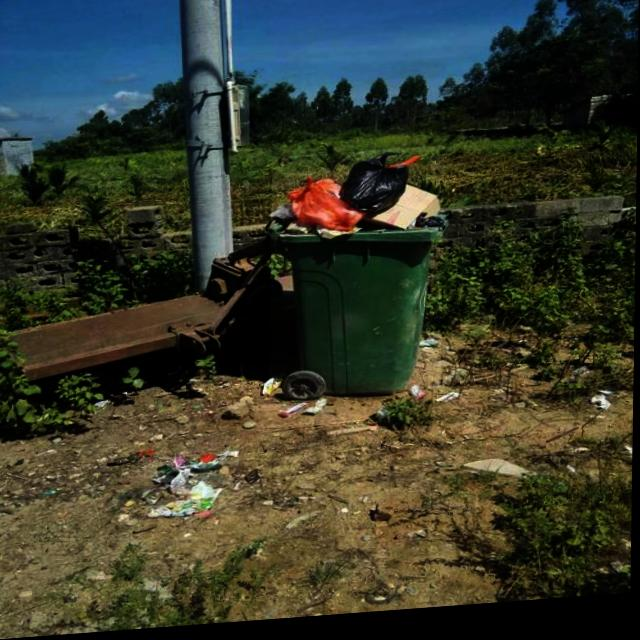garbage: (145, 450, 240, 521)
overflow: (270, 152, 445, 404)
